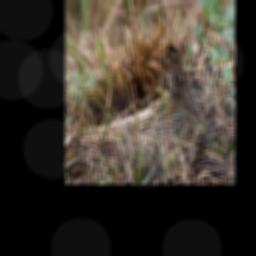Sparrow: (161, 40, 217, 150)
